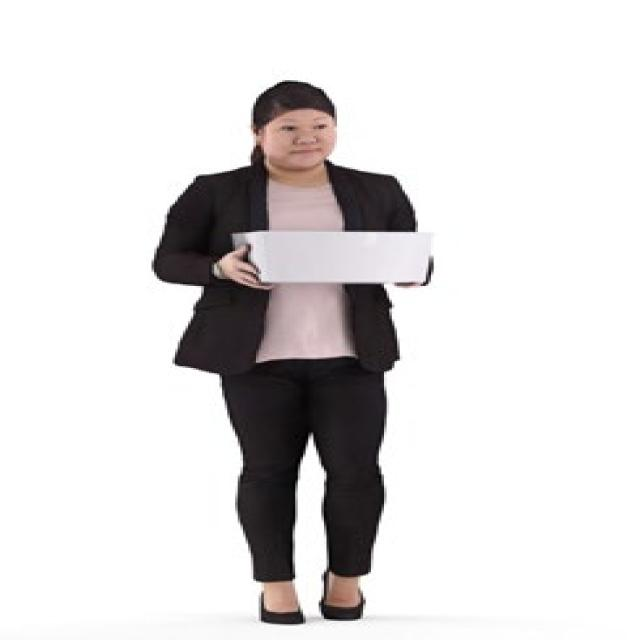standing: (149, 79, 442, 624)
